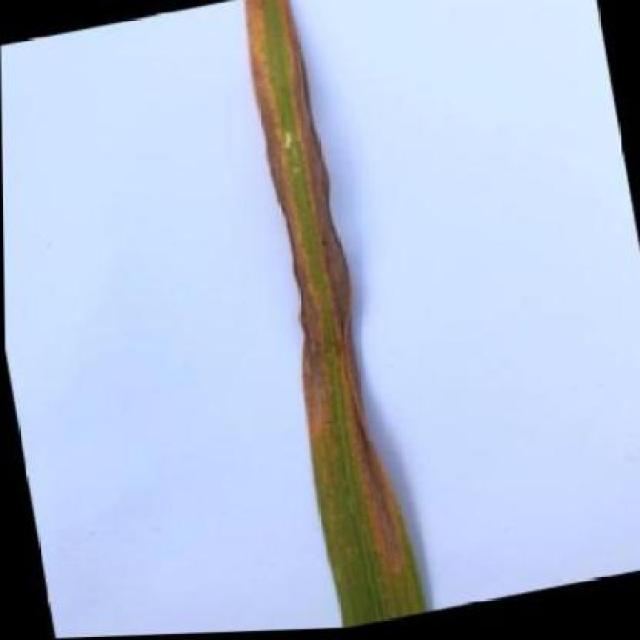Rice False Smut: (227, 0, 432, 632)
